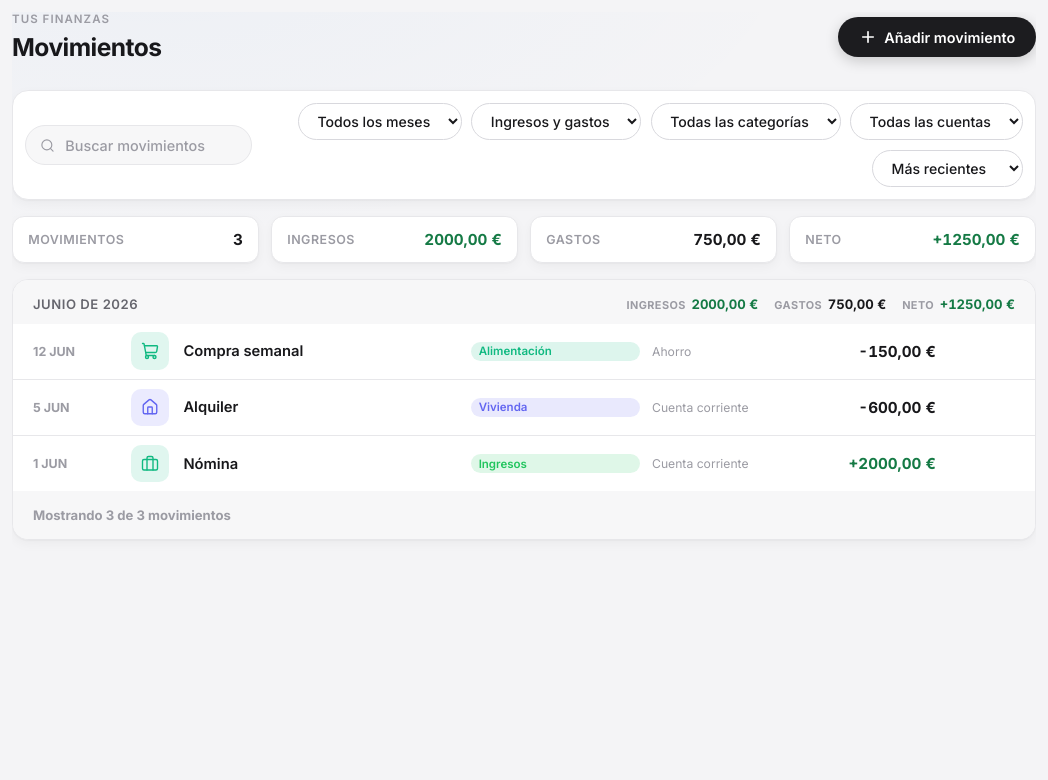
Scenario: TransactionsPage › filters by category
Select "Vivienda" in the dropdown named "Categoría" at (746, 122), box [651,103,841,140]
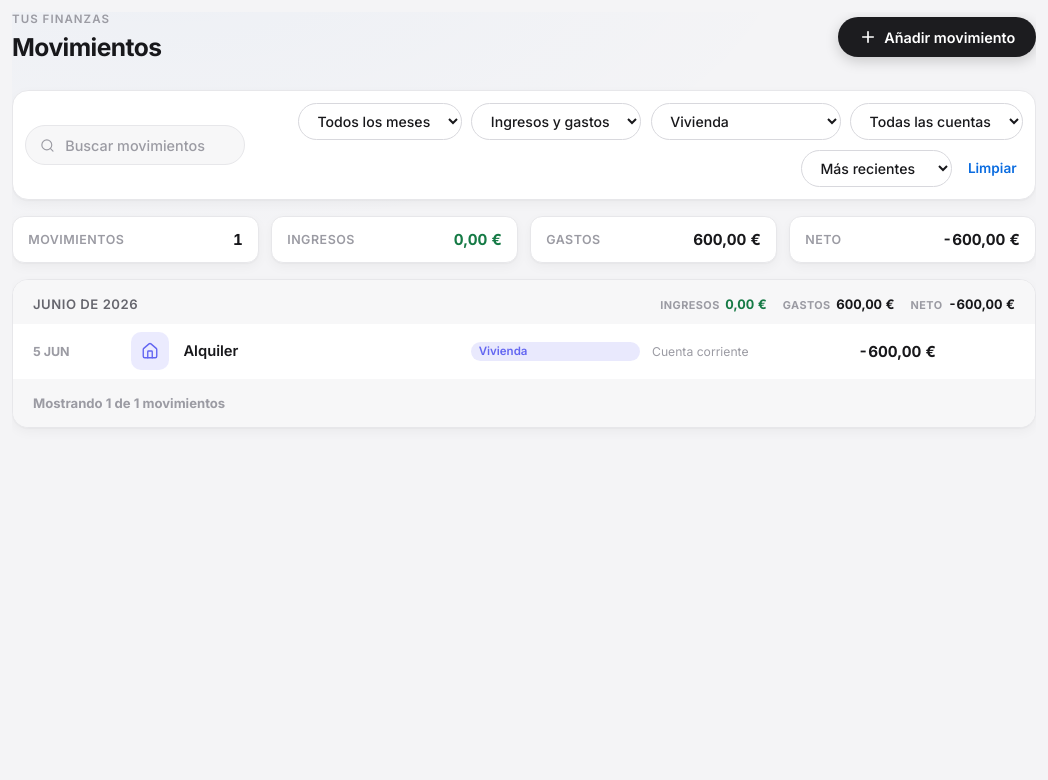
Expected: the text "Alquiler" is shown, [183,342,238,360]
Expected: the text "Nómina" is gone
